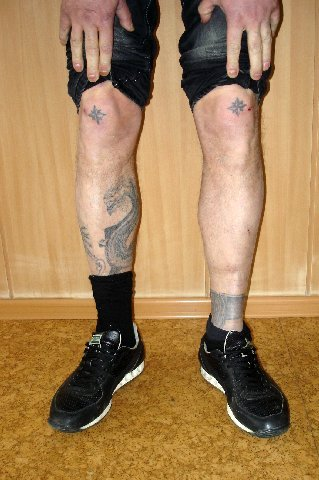tatu4_zvezda: (88, 103, 121, 129), (227, 96, 249, 119)
tatu6_drakon: (92, 174, 147, 278)
